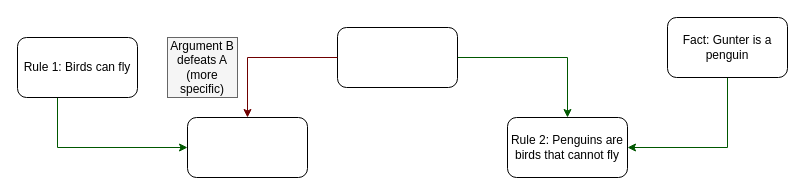
This 805x195 diagram has some shape labels left out. Here are the shapes that lost their labels. From the top down, the centre of each, then its label:
At (x=397, y=57): "Argument B: Gunter cannot fly".
At (x=247, y=147): "Argument A: Gunter can fly".
